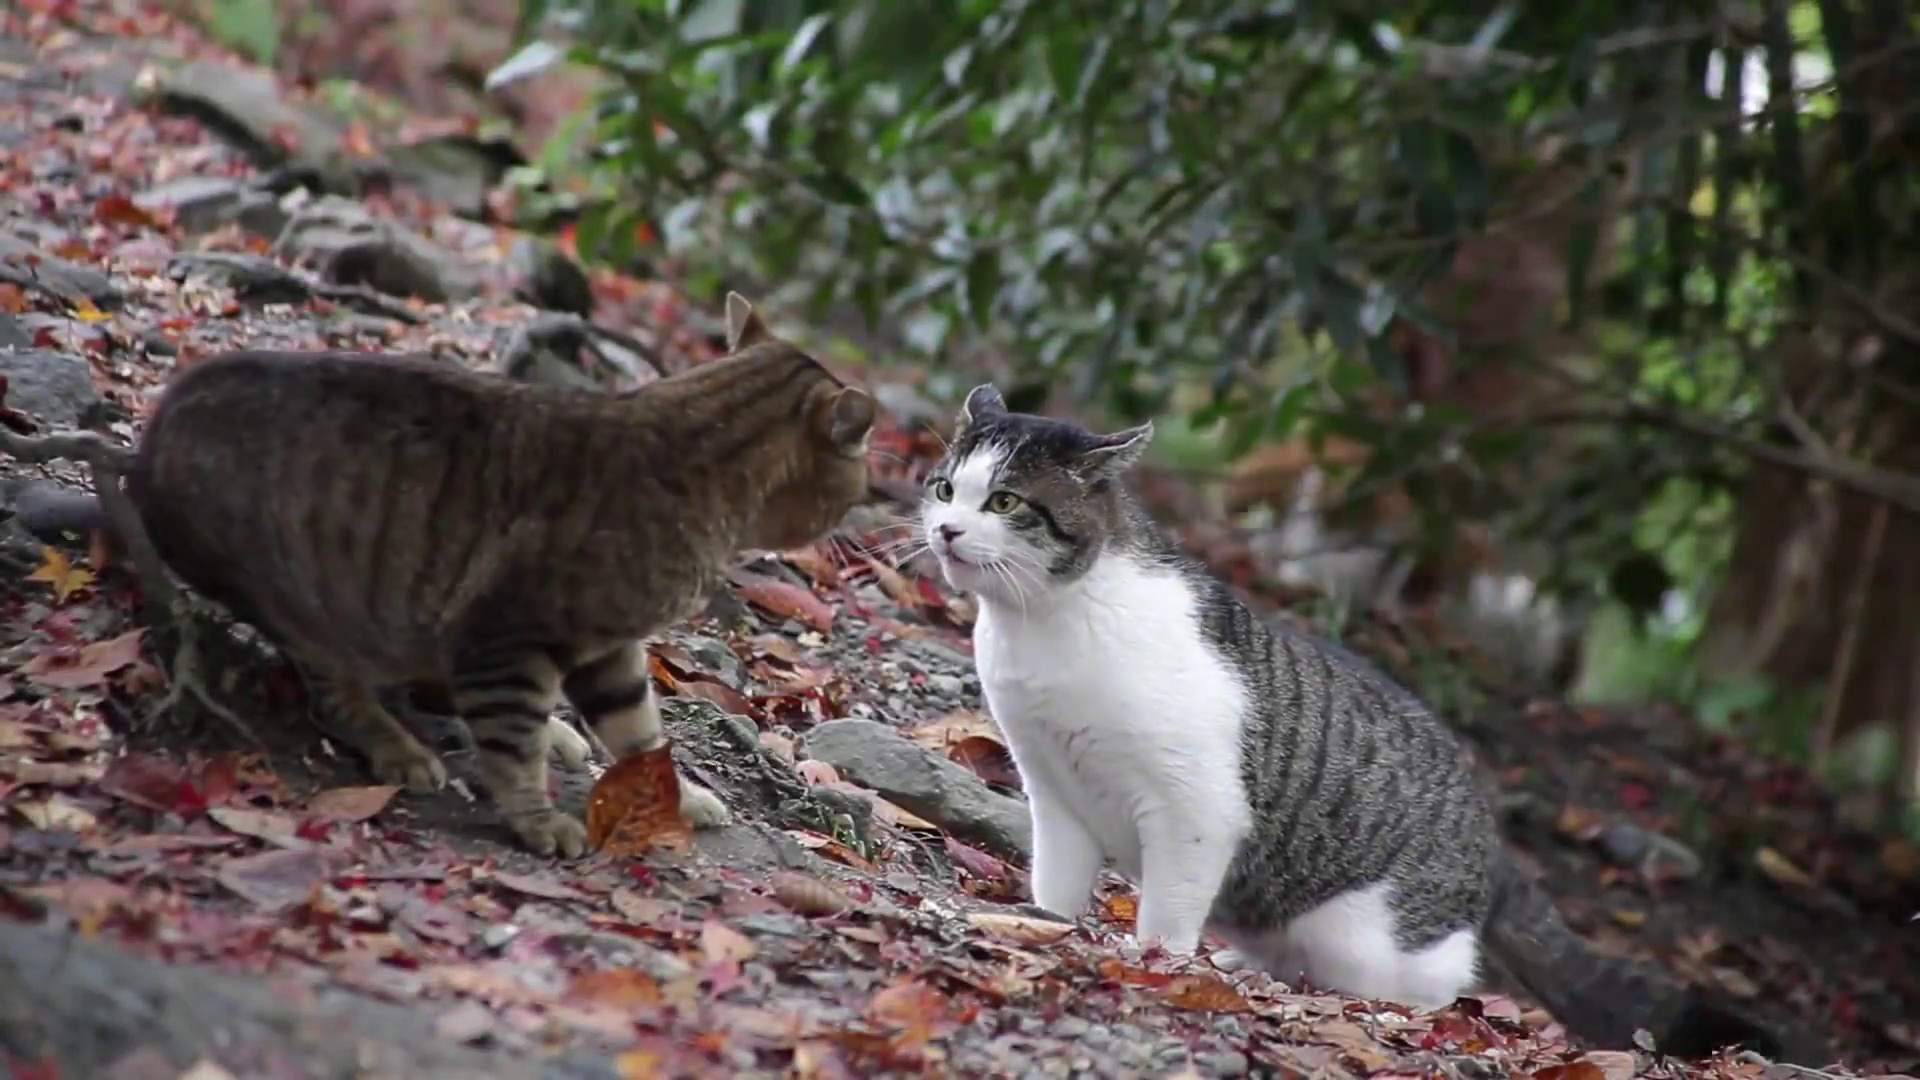black-white: (918, 382, 1497, 1013)
pure black: (135, 290, 878, 861)
